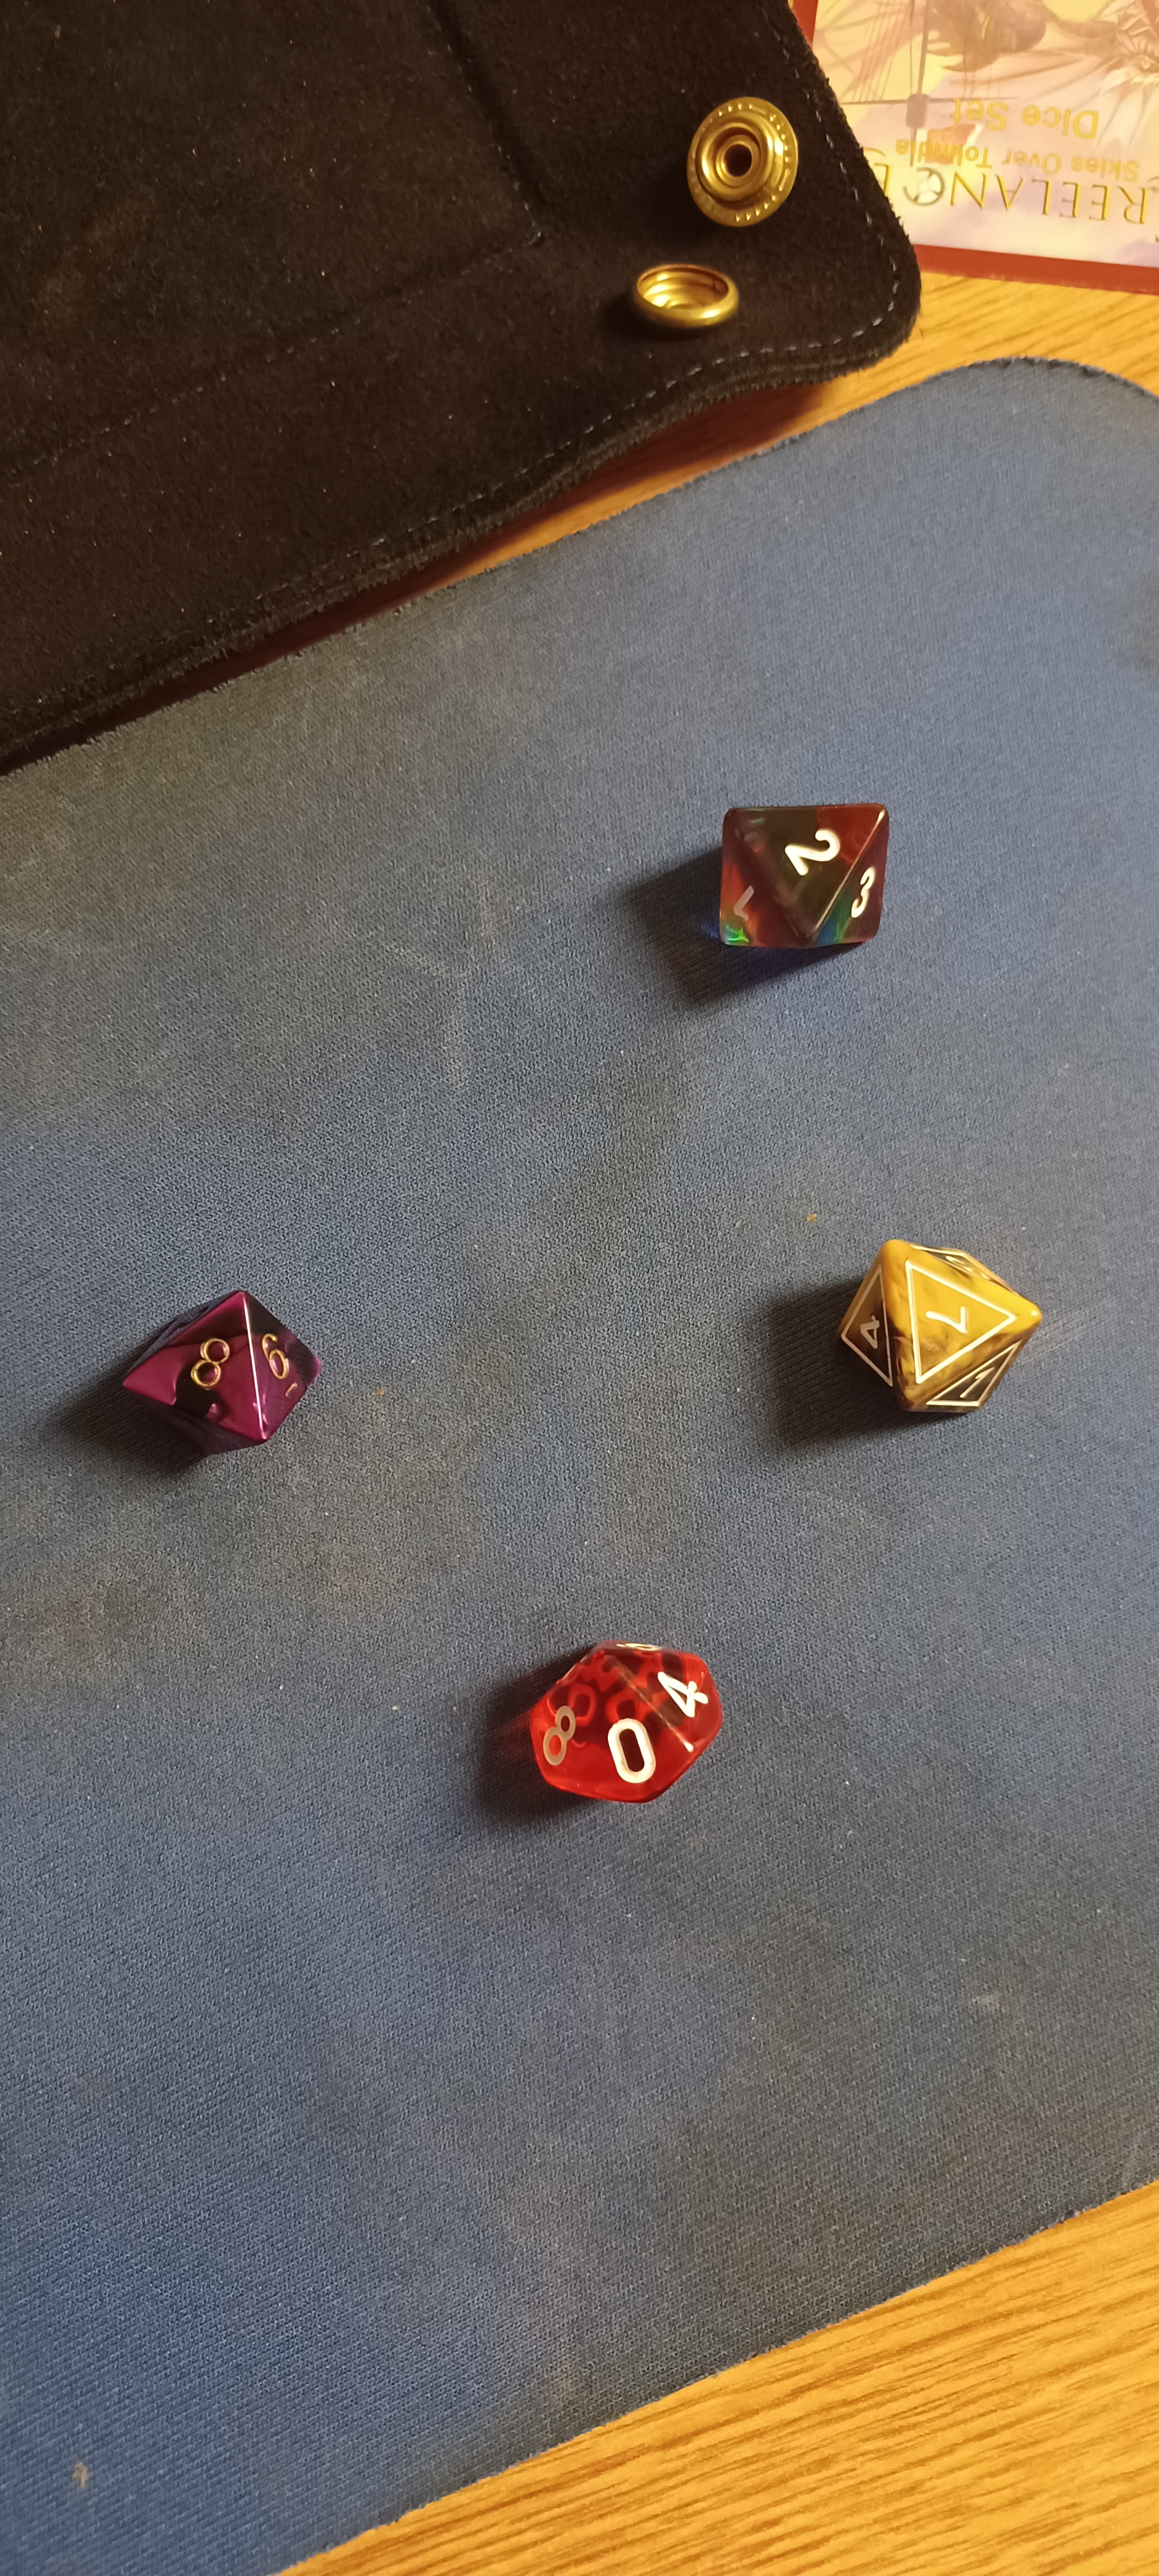eight: (57, 1273, 383, 1472)
seven: (816, 1209, 1067, 1436)
two: (675, 761, 924, 982)
zero: (496, 1603, 737, 1825)
